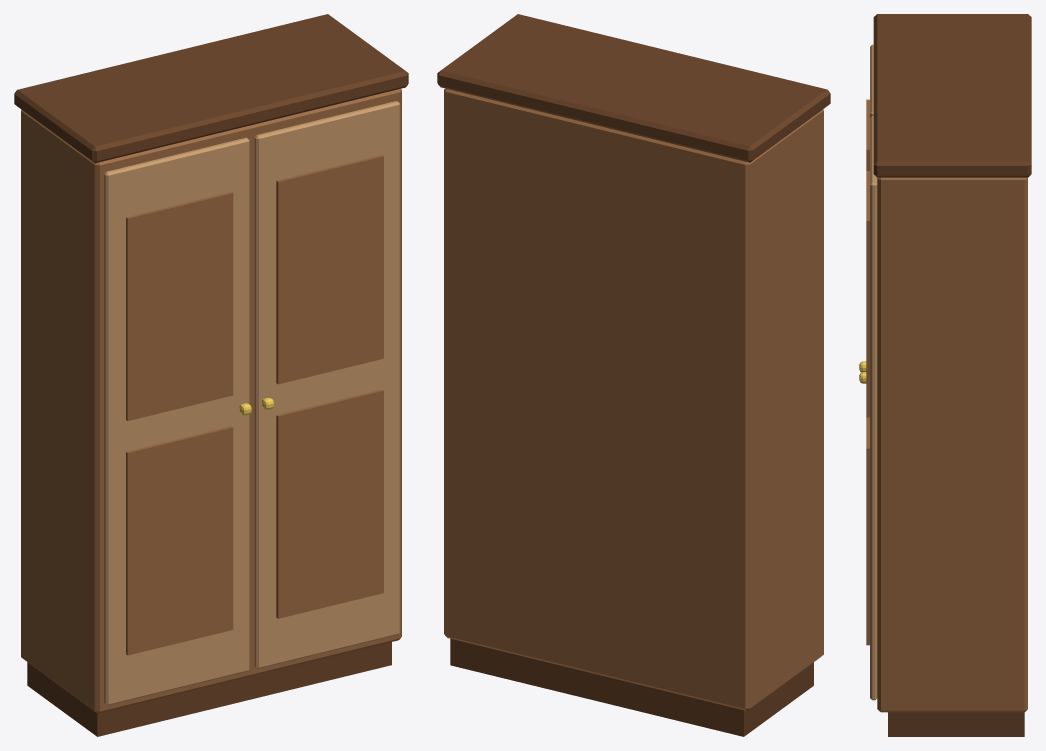
The model's file is wardrobe.glb.
3 views of the same model, side by side, from view 1: azimuth 30°, elevation 25°; view 2: azimuth 150°, elevation 25°; view 3: azimuth 270°, elevation 25° (orthographic). The views are drawn at different scales.
Visible parts, largest first — view 1: wardrobe; view 2: wardrobe; view 3: wardrobe.
Part boxes in pixels (bbox=[...]): wardrobe: bbox=[14, 14, 408, 736]; wardrobe: bbox=[437, 14, 830, 736]; wardrobe: bbox=[859, 14, 1031, 736].
Bounding box in the file's own units: 0.99 × 1.78 × 0.48.
1 material, 1 textured.
